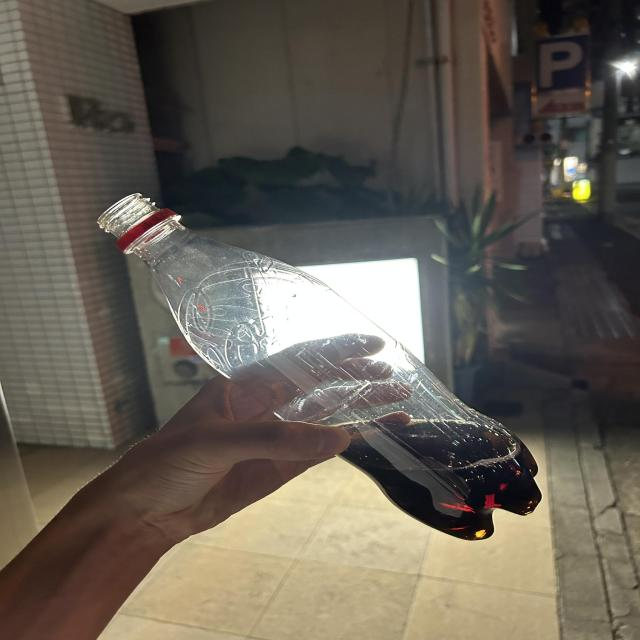low: (98, 193, 541, 541)
